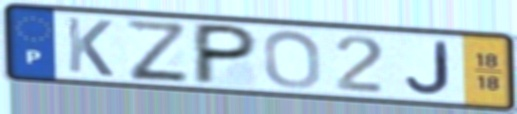2: (332, 34, 386, 95)
J: (403, 39, 454, 97)
K: (63, 14, 116, 79)
O: (261, 28, 324, 91)
P: (189, 21, 262, 87)
Z: (121, 17, 193, 82)
